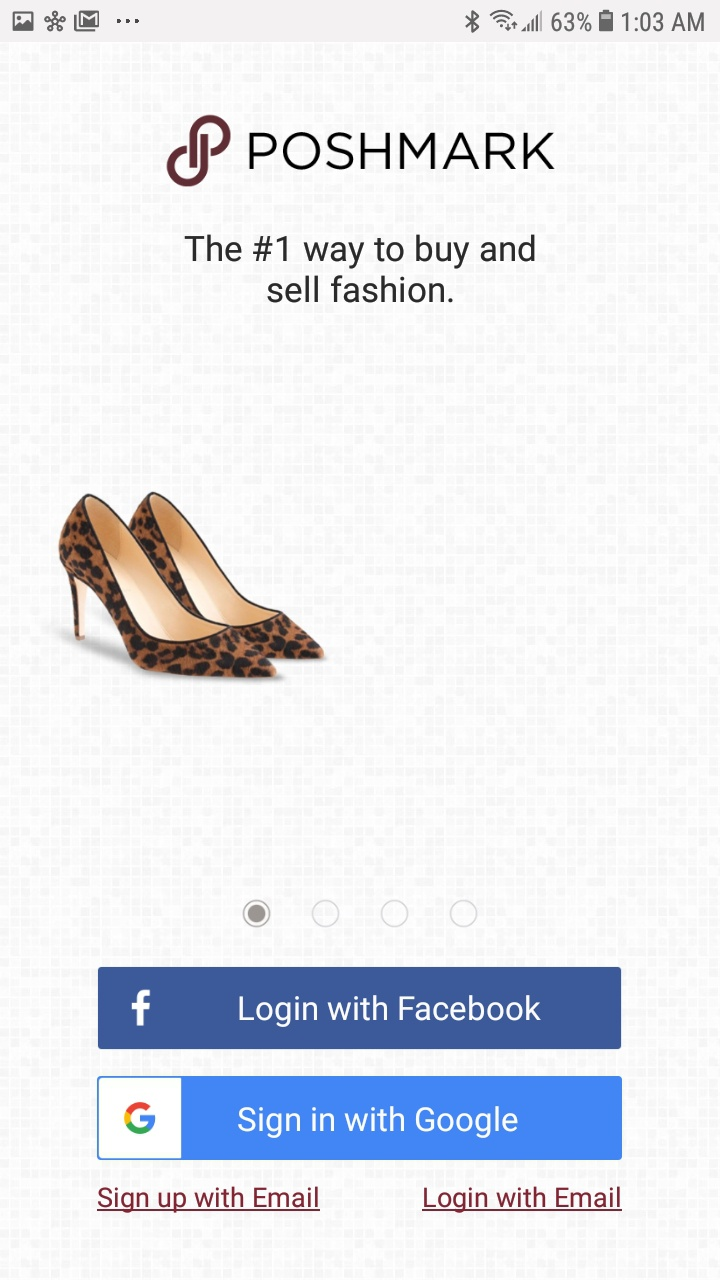Image: (58, 491, 326, 680), (166, 115, 232, 188)
PageIndicator: (242, 899, 479, 929)
Text: (185, 234, 536, 304), (249, 132, 556, 172), (97, 1185, 321, 1213), (422, 1186, 623, 1213)
TextButton: (97, 1076, 622, 1160), (98, 967, 622, 1049)
UpperTaskBar: (1, 1, 720, 43)
